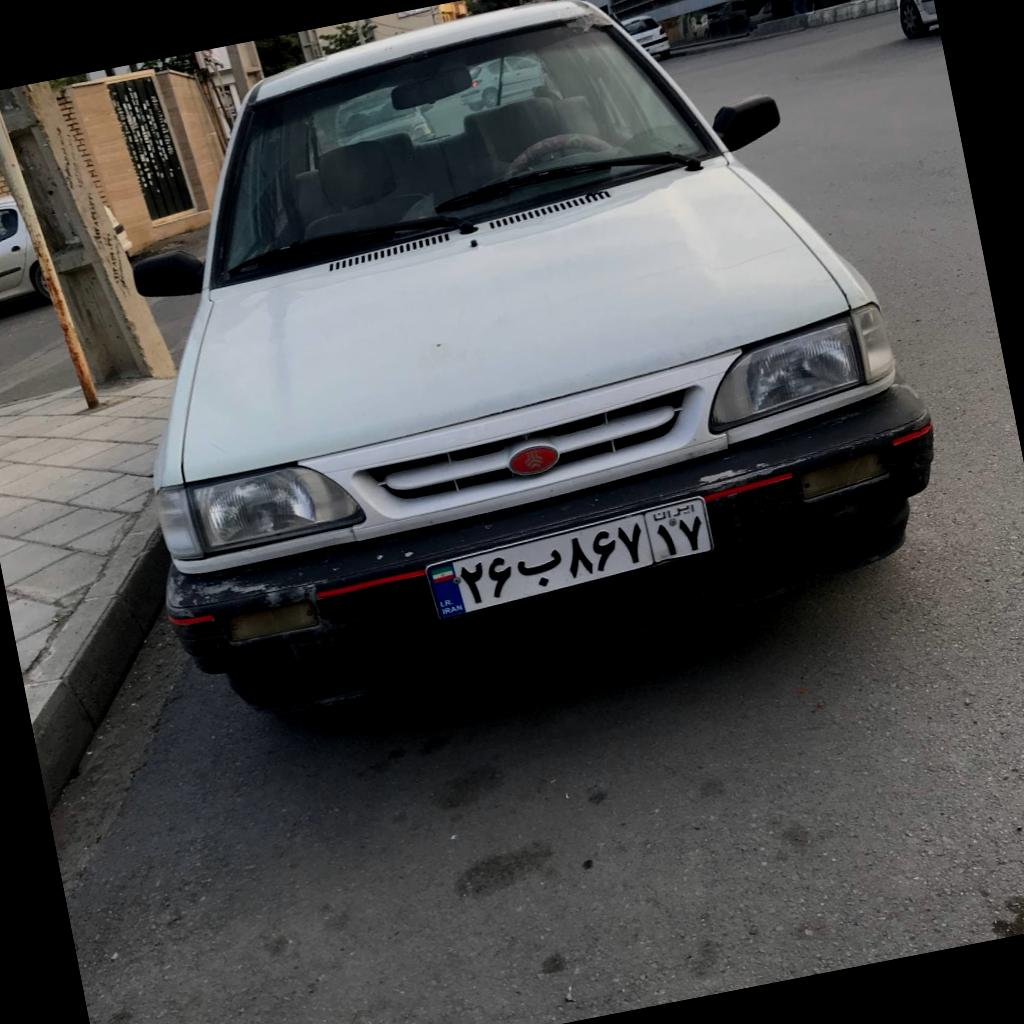Plates: (427, 498, 712, 619)
